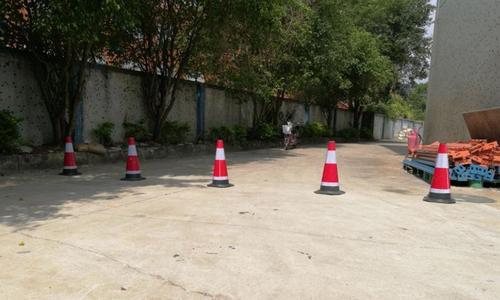cone_barrel: (425, 142, 454, 202), (314, 139, 342, 193), (207, 138, 231, 185), (120, 135, 144, 179), (59, 132, 79, 173)
